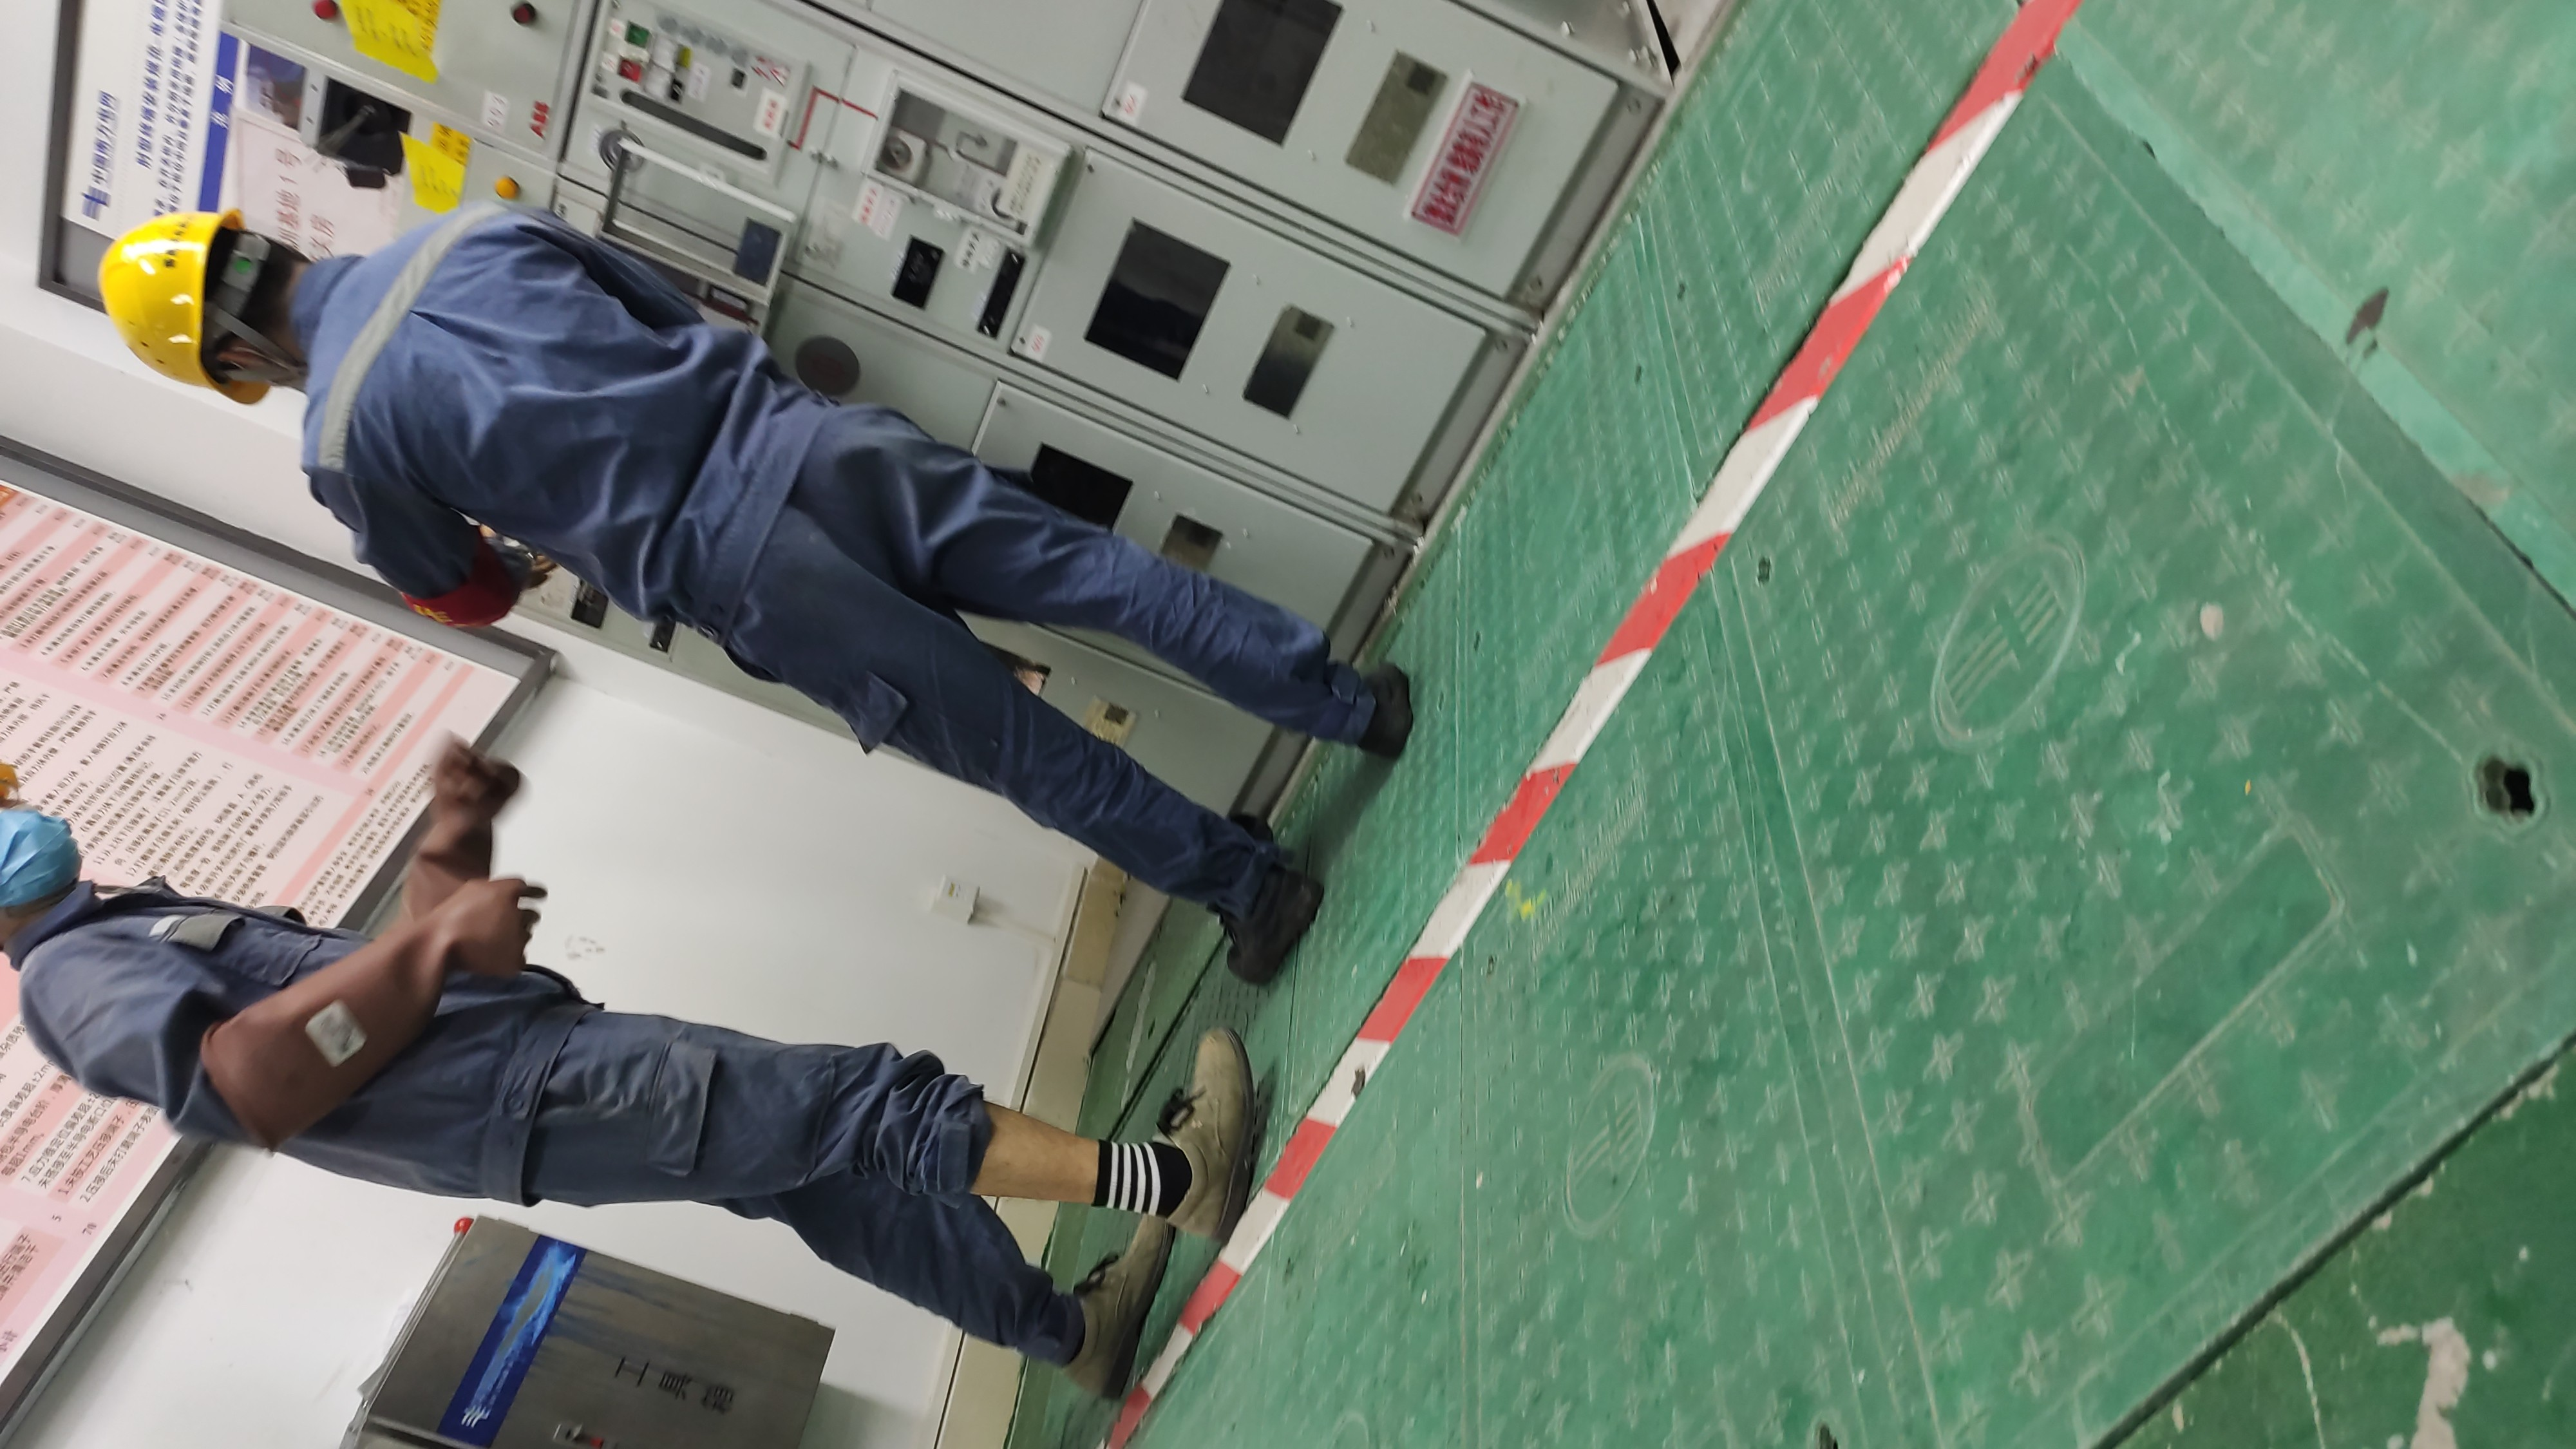downsuit: (771, 425, 1355, 902), (570, 1008, 1258, 1339)
upsuit: (301, 216, 793, 603), (28, 892, 421, 1155)
wrongbottom: (844, 1069, 1120, 1230)
